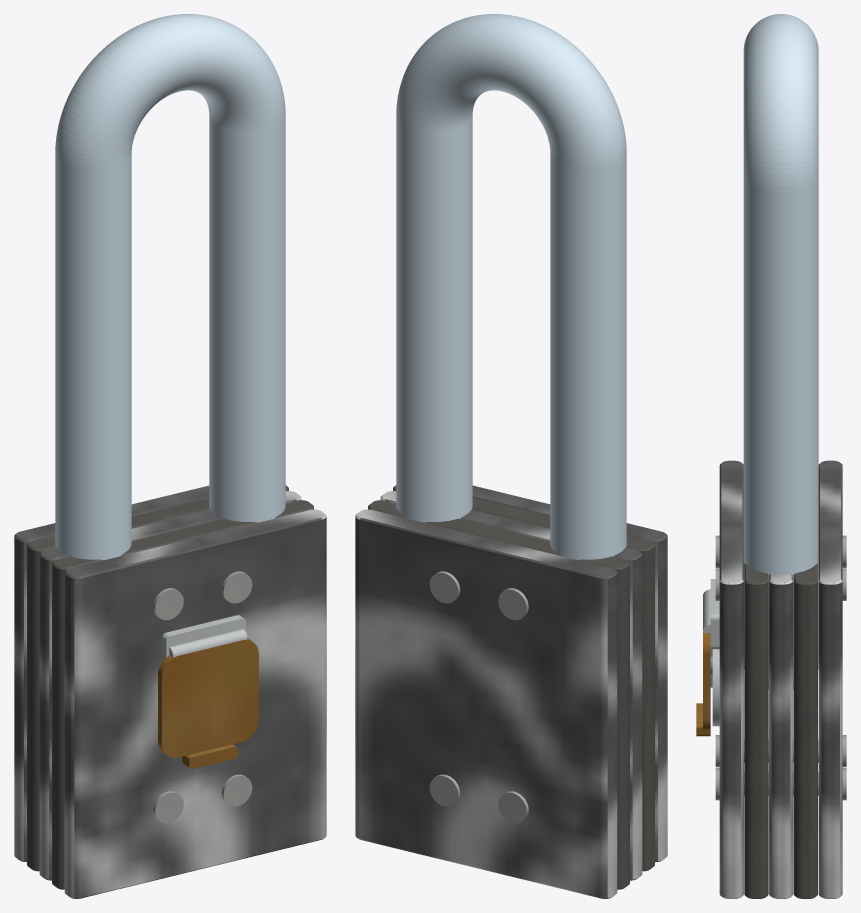
File: Equipment_Lock__0008.glb
The picture shows the model from 3 angles, left to right: view 1: azimuth 30°, elevation 25°; view 2: azimuth 150°, elevation 25°; view 3: azimuth 270°, elevation 25°; orthographic projection.
Parts seen in each view (by area): view 1: shackle::shackle_bar, body::plate_0, dust_cover::cover_flap, body::plate_1, body::plate_2, body::plate_4, body::plate_3, body::hinge_bracket, body::rivet_1, body::rivet_2, body::rivet_0, body::rivet_3; view 2: body::plate_4, shackle::shackle_bar, body::plate_3, body::plate_2, body::plate_0, body::plate_1, body::rivet_1, body::rivet_2, body::rivet_0, body::rivet_3; view 3: shackle::shackle_bar, body::plate_0, body::plate_4, body::plate_1, body::plate_3, body::plate_2, dust_cover::cover_flap, body::hinge_bracket, body::keyway_disc, body::rivet_1, body::rivet_0, body::rivet_3 (+1 smaller).
Boxes of the visible parts, box(x1,y1,x2,y2) form: shackle::shackle_bar: box(55, 14, 285, 559); body::plate_0: box(64, 509, 326, 898); dust_cover::cover_flap: box(158, 638, 258, 769); body::plate_1: box(52, 500, 313, 889); body::plate_2: box(39, 491, 301, 880); body::plate_4: box(14, 485, 209, 862); body::plate_3: box(27, 485, 288, 871); body::hinge_bracket: box(162, 615, 247, 661); body::rivet_1: box(221, 774, 252, 806); body::rivet_2: box(153, 588, 183, 620); body::rivet_0: box(153, 791, 183, 823); body::rivet_3: box(221, 571, 252, 603); body::plate_4: box(355, 509, 617, 898); shackle::shackle_bar: box(396, 14, 626, 559); body::plate_3: box(368, 500, 629, 889); body::plate_2: box(380, 491, 642, 880); body::plate_0: box(472, 485, 667, 862); body::plate_1: box(393, 485, 654, 871); body::rivet_1: box(429, 774, 460, 806); body::rivet_2: box(498, 588, 528, 620); body::rivet_0: box(498, 791, 528, 823); body::rivet_3: box(429, 571, 460, 603); shackle::shackle_bar: box(743, 14, 818, 689); body::plate_0: box(719, 460, 743, 898); body::plate_4: box(818, 460, 842, 898); body::plate_1: box(744, 563, 768, 898); body::plate_3: box(793, 563, 817, 898); body::plate_2: box(769, 574, 793, 898); dust_cover::cover_flap: box(696, 633, 710, 736); body::hinge_bracket: box(703, 579, 719, 649); body::keyway_disc: box(712, 649, 719, 726); body::rivet_1: box(715, 768, 846, 800); body::rivet_0: box(715, 735, 846, 767); body::rivet_3: box(715, 568, 846, 600).
Size of the model in its own units: 0.045 by 0.1385 by 0.0232.
Materials: 7 (6 with a texture image).
